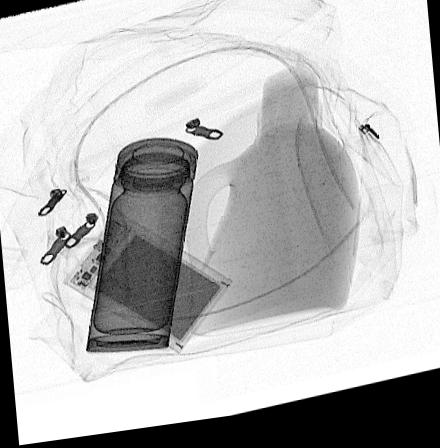Powerbank: (62, 213, 232, 360)
